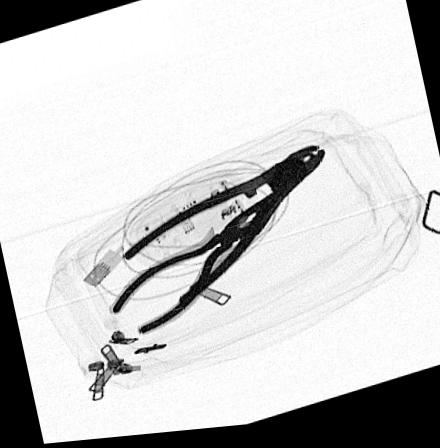Pliers: (118, 148, 326, 310), (109, 195, 290, 319)
